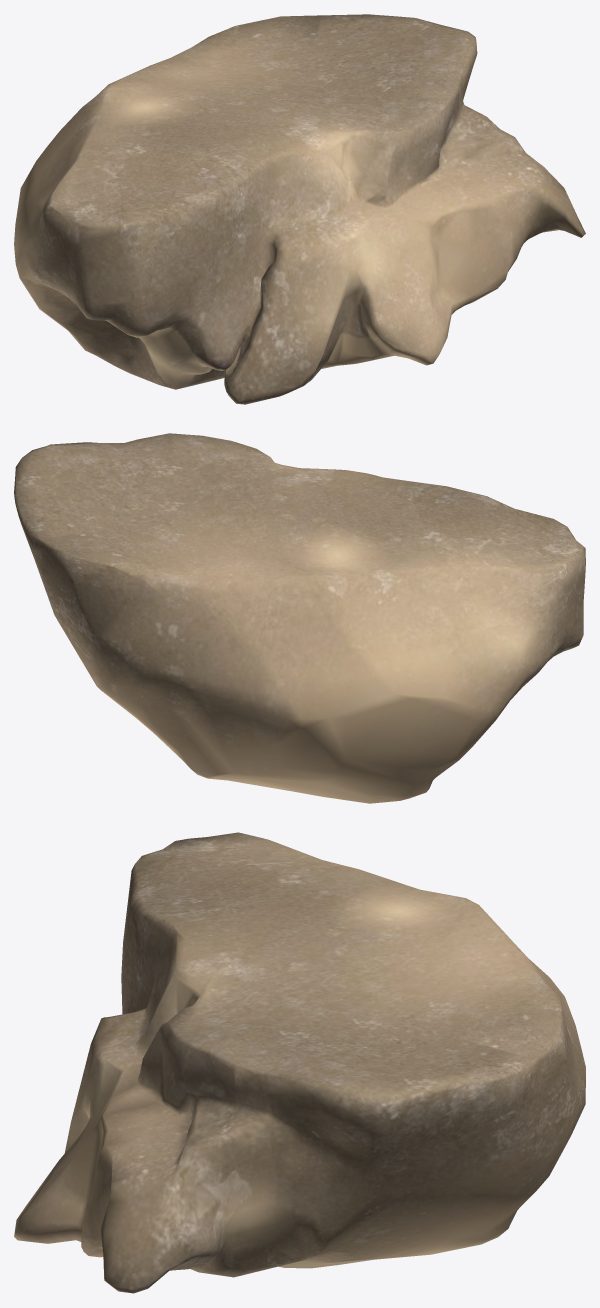
The model's file is Carbonate1.fbx.
3 views of the same model, one above another, from view 1: azimuth 30°, elevation 25°; view 2: azimuth 150°, elevation 25°; view 3: azimuth 270°, elevation 25° (orthographic). The views are drawn at different scales.
Visible parts, largest first — view 1: Carbonate1; view 2: Carbonate1; view 3: Carbonate1.
Boxes of the visible parts, x1=… form: Carbonate1: x1=14, y1=14, x2=585, y2=404; Carbonate1: x1=14, y1=433, x2=585, y2=803; Carbonate1: x1=14, y1=832, x2=585, y2=1293.
Bounding box in the file's own units: 46.53 × 23.63 × 35.92.
